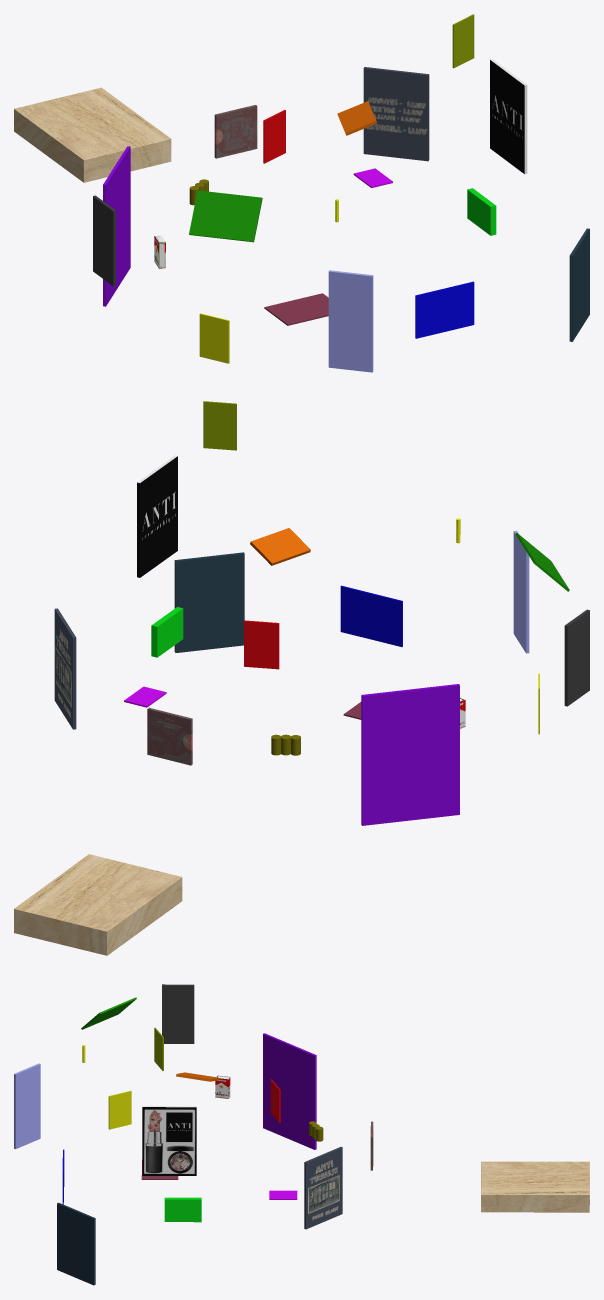
The model's file is AntiRevueScene18.glb.
3 views of the same model, one above another, from view 1: azimuth 30°, elevation 25°; view 2: azimuth 150°, elevation 25°; view 3: azimuth 270°, elevation 25° (orthographic). The views are drawn at different scales.
Visible parts, largest first — view 1: cubercle, anti-terrasse, anti-mots, anticosmetique, anti-recueil, anti-bouquet, anti-jeu des 7 familles, boite, anti-images, anti-tourisme, soupe calloux, anti-armée (+5 smaller); view 2: anti-jeu des 7 familles, cubercle, anti-tourisme, anticosmetique, boite, anti-bouquet, anti-terrasse, anti-images, soupe calloux, anti-mots, anti-anti petites choses de la vie, anti-memoire (+3 smaller); view 3: anti-jeu des 7 familles, cubercle, anticosmetique, anti-terrasse, anti-tourisme, anti-mots, soupe calloux, boite, anti-esoterisme, anti-armée, anti-recueil.
Part boxes in pixels (<box>): cubercle: <box>14,87,171,165</box>; anti-terrasse: <box>363,67,429,161</box>; anti-mots: <box>328,270,373,372</box>; anticosmetique: <box>490,59,527,174</box>; anti-recueil: <box>189,190,262,242</box>; anti-bouquet: <box>415,281,474,338</box>; anti-jeu des 7 familles: <box>103,146,130,306</box>; boite: <box>14,115,171,182</box>; anti-images: <box>214,105,257,158</box>; anti-tourisme: <box>569,228,589,341</box>; soupe calloux: <box>93,195,115,286</box>; anti-armée: <box>199,313,229,363</box>; anti-jeu des 7 familles: <box>361,684,459,825</box>; cubercle: <box>14,854,182,937</box>; anti-tourisme: <box>174,552,244,652</box>; anticosmetique: <box>137,455,177,577</box>; boite: <box>14,884,182,955</box>; anti-bouquet: <box>340,585,402,646</box>; anti-terrasse: <box>54,608,76,729</box>; anti-images: <box>147,707,192,765</box>; soupe calloux: <box>564,609,589,706</box>; anti-mots: <box>513,530,529,653</box>; anti-anti petites choses de la vie: <box>244,620,279,669</box>; anti-memoire: <box>203,401,236,450</box>; anti-jeu des 7 familles: <box>263,1033,316,1149</box>; cubercle: <box>481,1161,589,1199</box>; anticosmetique: <box>142,1106,196,1175</box>; anti-terrasse: <box>304,1147,342,1229</box>; anti-tourisme: <box>57,1202,95,1285</box>; anti-mots: <box>14,1063,40,1149</box>; soupe calloux: <box>162,984,194,1043</box>; boite: <box>481,1199,589,1212</box>; anti-esoterisme: <box>164,1197,201,1222</box>; anti-armée: <box>108,1090,131,1129</box>; anti-recueil: <box>81,997,136,1029</box>.
Size of the model in its own units: 157 by 98.48 by 233.
20 materials, 5 textured.
